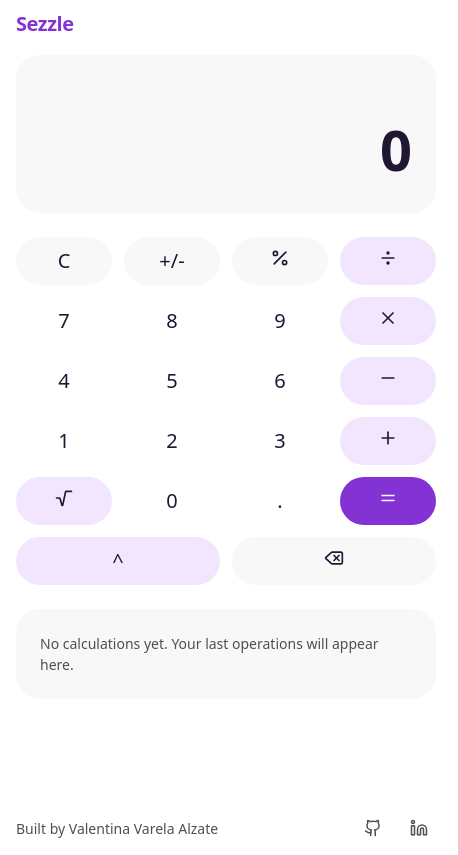
Test: App › flow 2 + 3 = shows 5 and records the history entry
The image size is (458, 855).
What coordinates should you click on to do the following:
click the button "2"
I would click on:
 (172, 441)
Its box is [124,417,220,465].
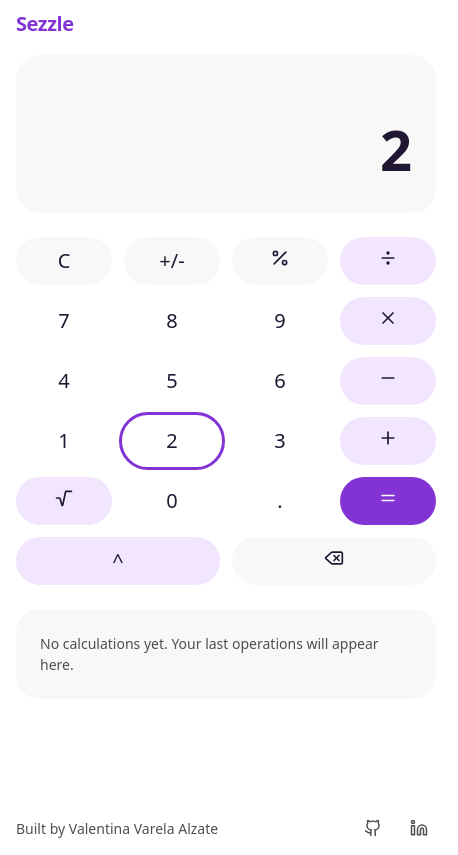
What coordinates should you click on to do the following:
click the button named "Add"
I would click on:
 (388, 441)
Its box is [340,417,436,465].
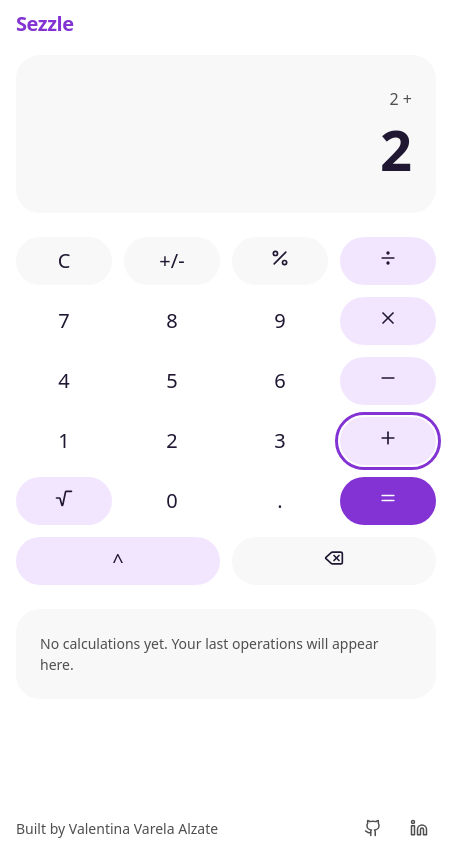
What coordinates should you click on to do the following:
click the button "3"
I would click on:
 (280, 441)
Its box is [232,417,328,465].
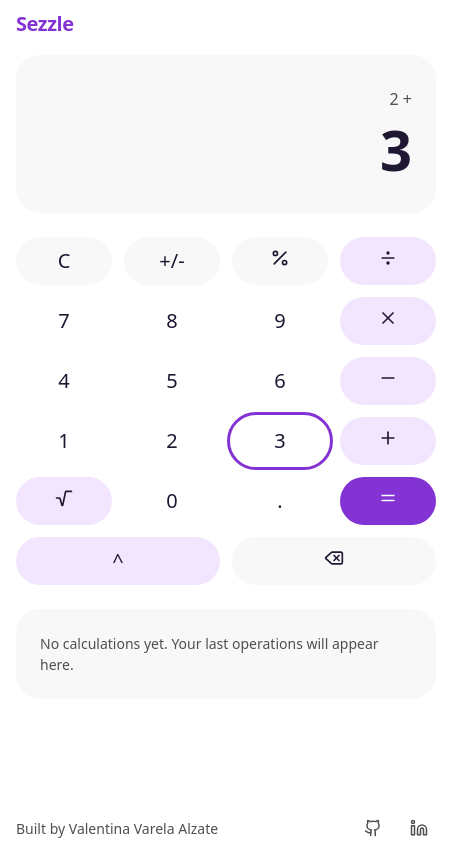
What coordinates should you click on to do the following:
click the button named "Equals"
I would click on:
 (388, 501)
Its box is [340,477,436,525].
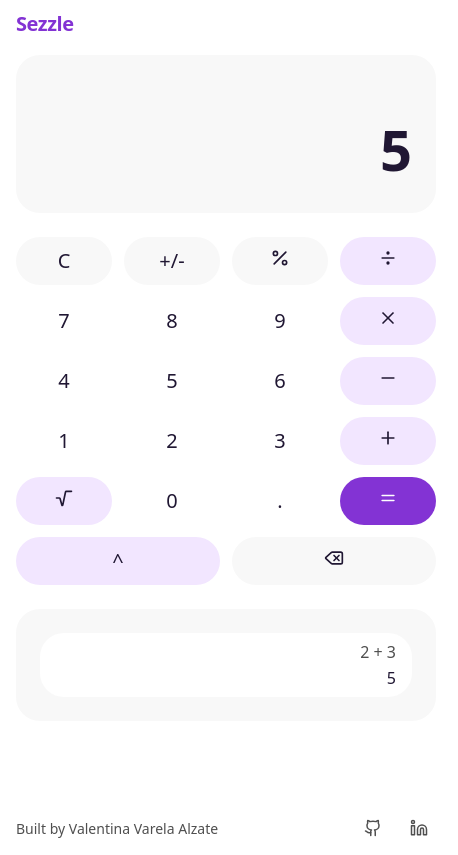
Expected: the text "2 + 3" is shown, [360,641,396,663]
Expected: the 1st text "5" is shown, [380,111,412,187]
